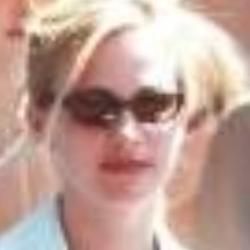face: (20, 2, 248, 209)
